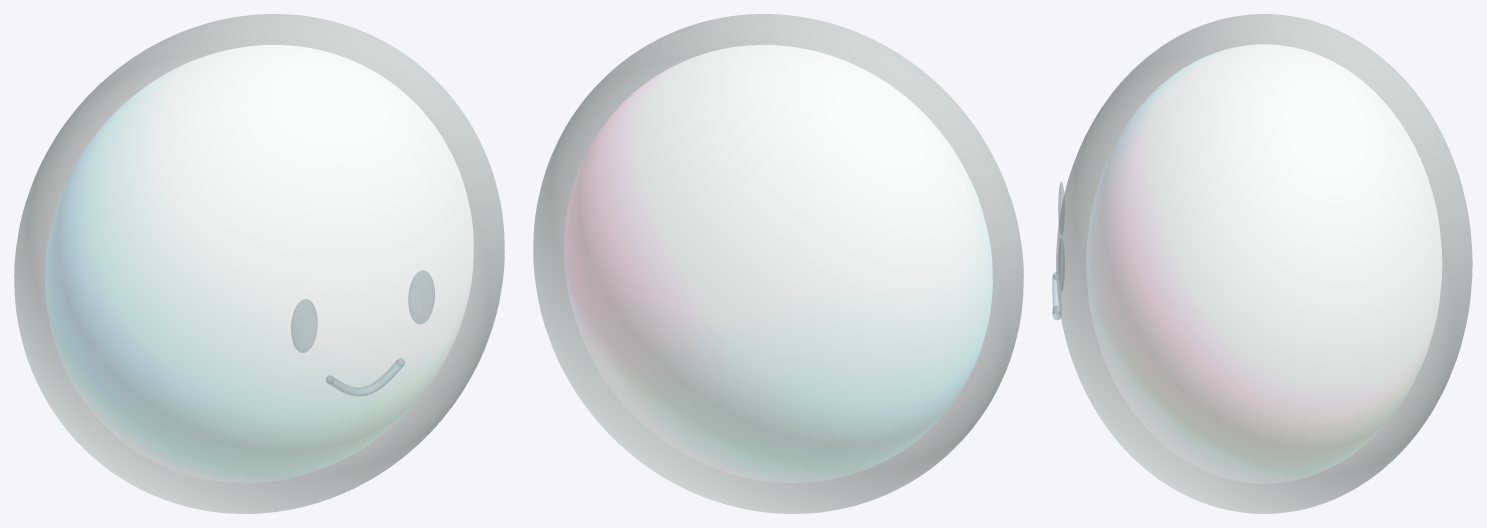
The model's file is livia-soul-orb-v1.glb.
3 views of the same model, side by side, from view 1: azimuth 30°, elevation 25°; view 2: azimuth 150°, elevation 25°; view 3: azimuth 270°, elevation 25° (orthographic). The views are drawn at different scales.
Visible parts, largest first — view 1: SoulShell, ChromaticCore, EyeLeft, EyeRight, Smile; view 2: SoulShell, ChromaticCore; view 3: SoulShell, ChromaticCore.
Part boxes in pixels (<box>): SoulShell: <box>14,14,504,513</box>; ChromaticCore: <box>45,45,473,482</box>; EyeLeft: <box>291,299,317,352</box>; EyeRight: <box>408,270,434,324</box>; Smile: <box>327,360,403,396</box>; SoulShell: <box>533,14,1023,513</box>; ChromaticCore: <box>564,45,992,482</box>; SoulShell: <box>1056,14,1472,513</box>; ChromaticCore: <box>1086,44,1442,483</box>.
Size of the model in its own units: 2.64 by 2.64 by 2.22.
